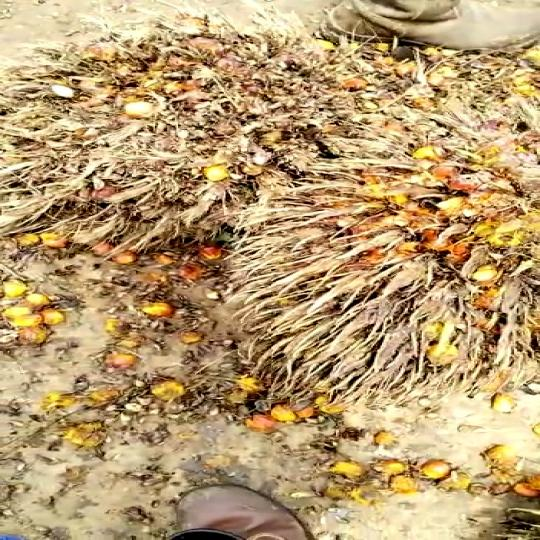terlalu masak: (202, 110, 540, 395), (0, 31, 397, 231)
